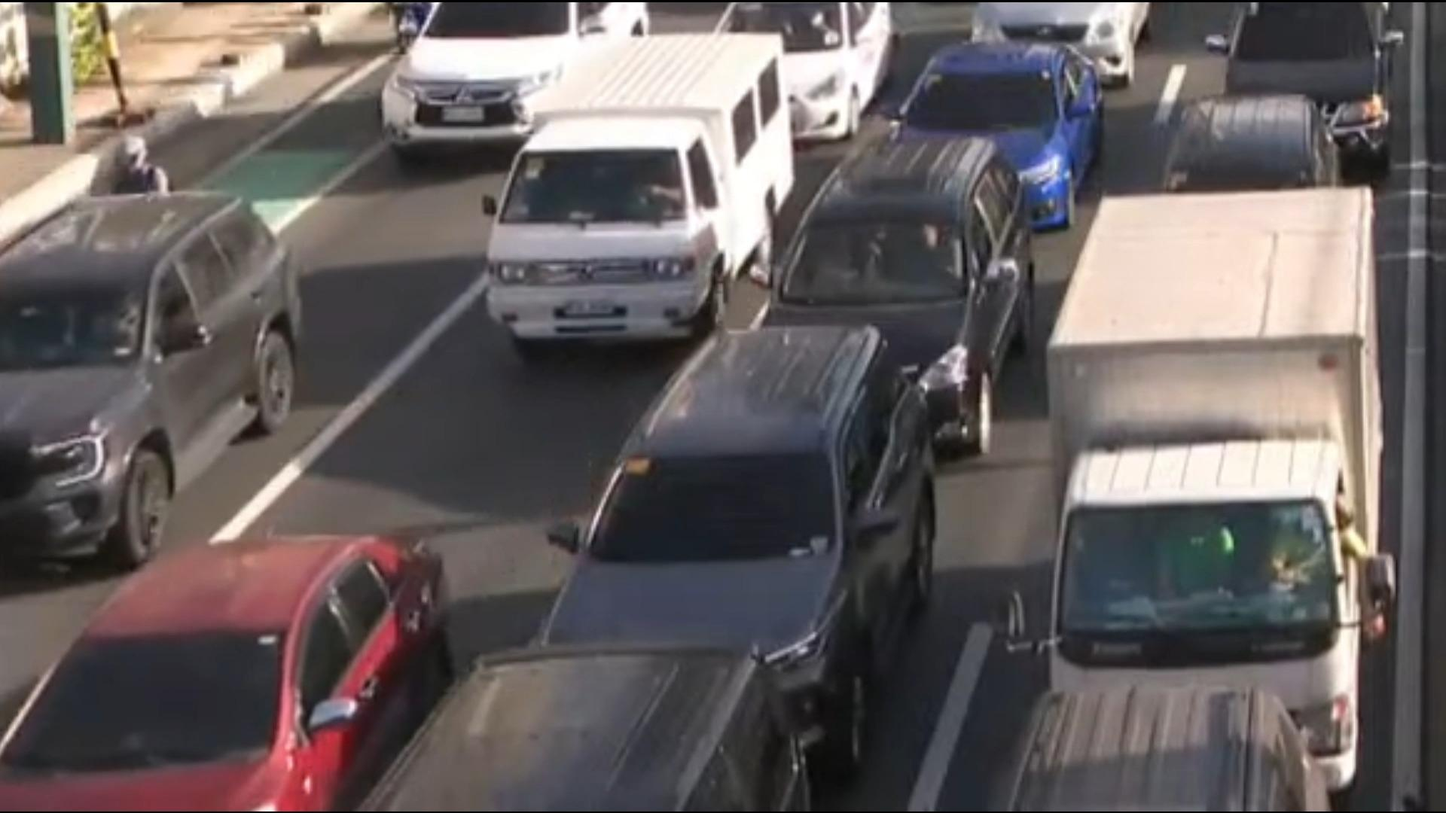Multicab: (440, 25, 819, 372)
SUV: (544, 313, 955, 727), (0, 179, 330, 578), (714, 134, 1064, 457), (366, 0, 639, 180)
Sedan: (0, 497, 458, 813), (869, 40, 1117, 233)
Truck: (994, 175, 1429, 766)
